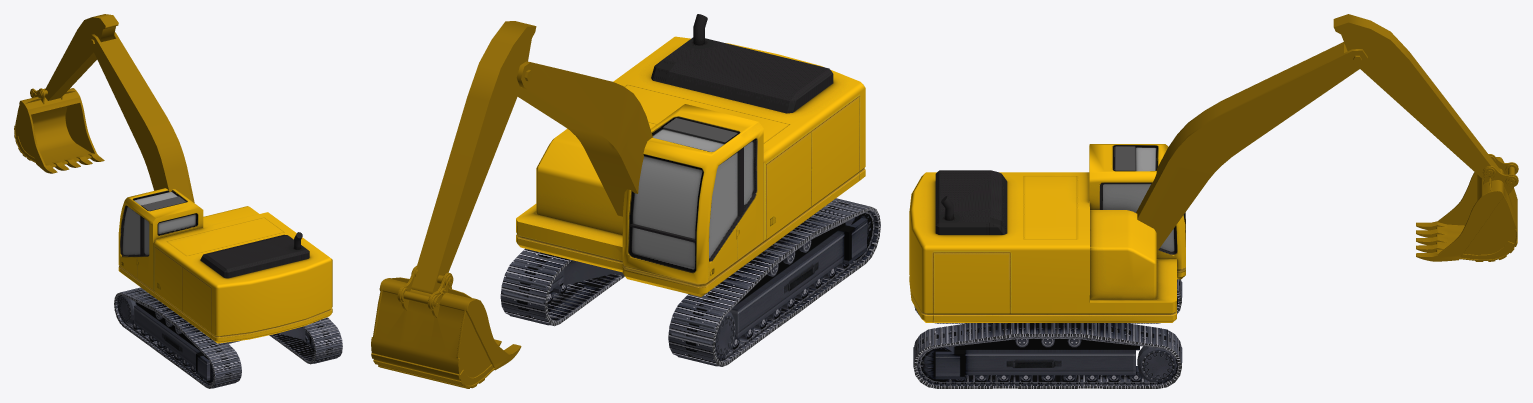
File: hex.glb
The picture shows the model from 3 angles, left to right: view 1: azimuth 30°, elevation 25°; view 2: azimuth 150°, elevation 25°; view 3: azimuth 270°, elevation 25°; orthographic projection. The views are drawn at different scales.
Parts seen in each view (by area): view 1: body1, tracks1, boom, bucket, Stick; view 2: body1, tracks1, Stick, bucket, boom; view 3: body1, tracks1, boom, Stick, bucket.
Part boxes in pixels (x1,y1,x2,y2): body1: [118, 188, 332, 343]; tracks1: [114, 287, 342, 388]; boom: [89, 32, 194, 202]; bucket: [14, 88, 104, 173]; Stick: [45, 14, 118, 100]; body1: [516, 14, 865, 296]; tracks1: [500, 198, 880, 366]; Stick: [411, 21, 536, 293]; bucket: [371, 265, 521, 388]; boom: [516, 61, 652, 216]; body1: [909, 144, 1185, 322]; tracks1: [913, 279, 1182, 388]; boom: [1136, 42, 1367, 251]; Stick: [1333, 14, 1500, 179]; bucket: [1416, 154, 1518, 261].
Bounding box in the file's own units: 0.9997 × 1.83 × 3.11.
5 materials, 2 textured.
